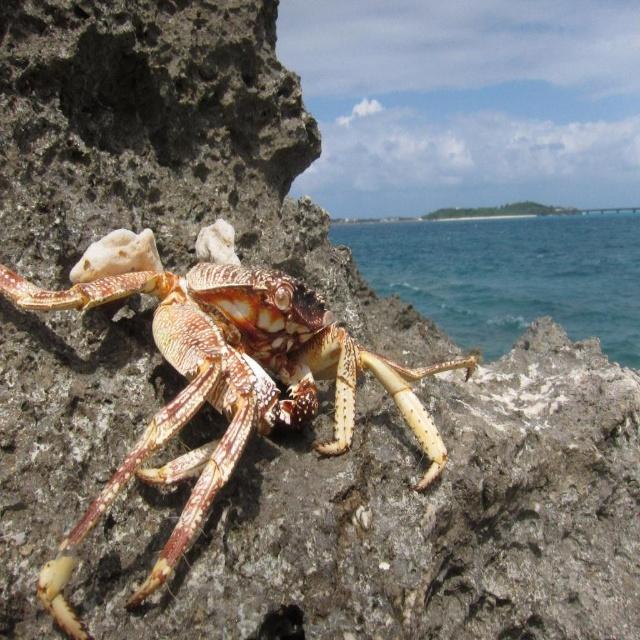Crab: (0, 259, 477, 639)
